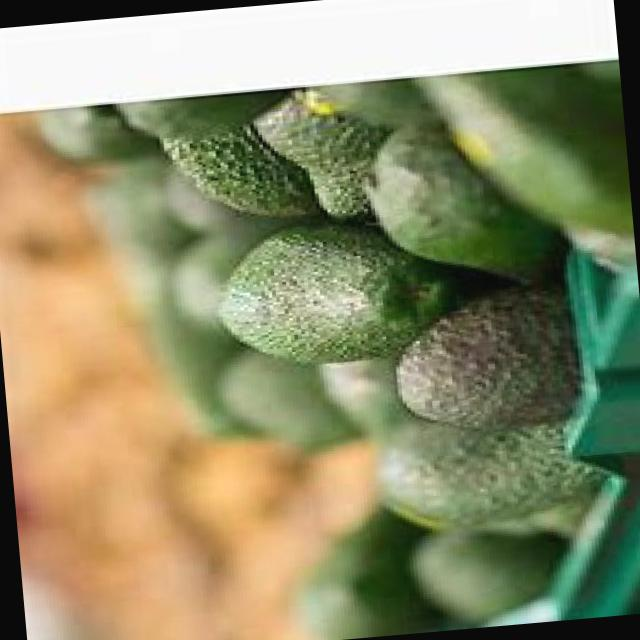avocado: (214, 212, 441, 366), (392, 288, 593, 428)
